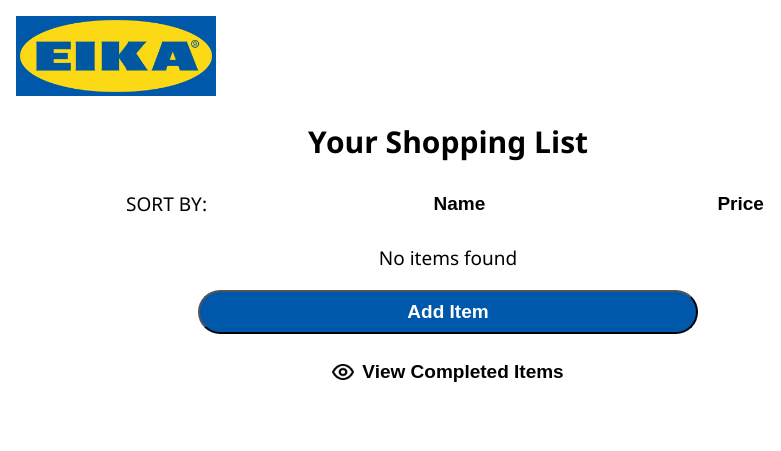
Click on the 'view completed items'button leads to the rendering of the 'hide completed items'button
What coordinates should you click on to do the following:
click the button "View Completed Items"
I would click on:
 (448, 372)
Its box is 326,350 -> 570,394.
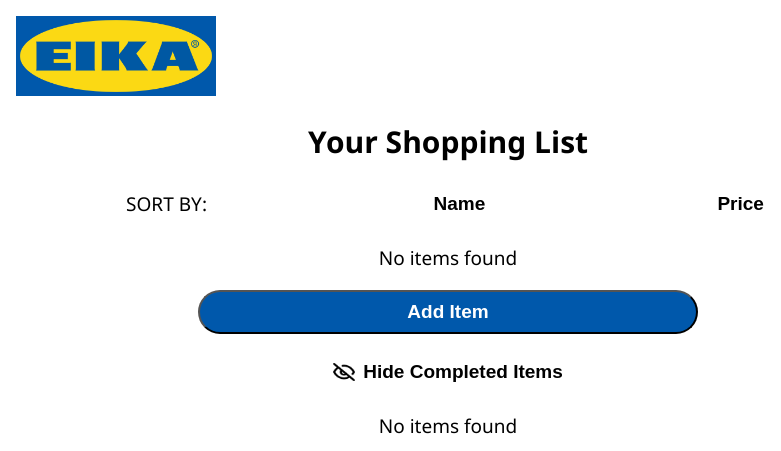
Result: the button "Hide Completed Items" is shown at 327,350 -> 569,394
